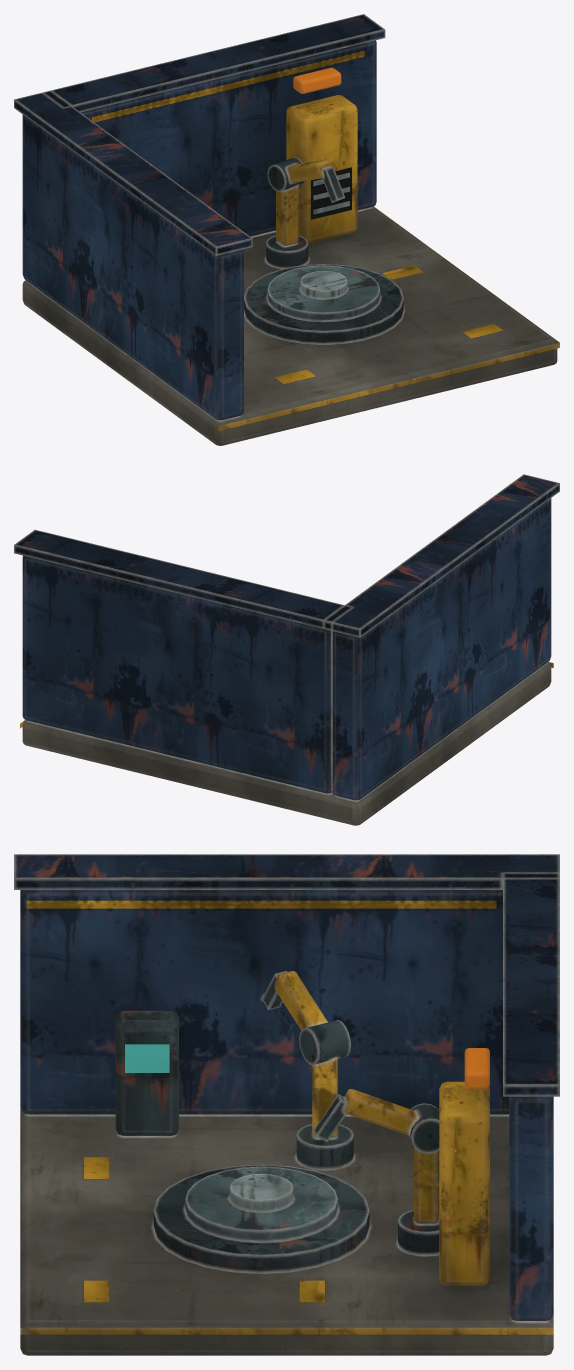
The model's file is assembler.glb.
3 views of the same model, one above another, from view 1: azimuth 30°, elevation 25°; view 2: azimuth 150°, elevation 25°; view 3: azimuth 270°, elevation 25° (orthographic). The views are drawn at different scales.
Visible parts, largest first — view 1: te_assembler; view 2: te_assembler; view 3: te_assembler.
Part boxes in pixels (box(x1,y1,x2,y2)): te_assembler: box(14, 14, 559, 445); te_assembler: box(14, 474, 559, 825); te_assembler: box(14, 854, 559, 1355).
Bounding box in the file's own units: 0.86 × 0.48 × 0.86.
1 material, 1 textured.
